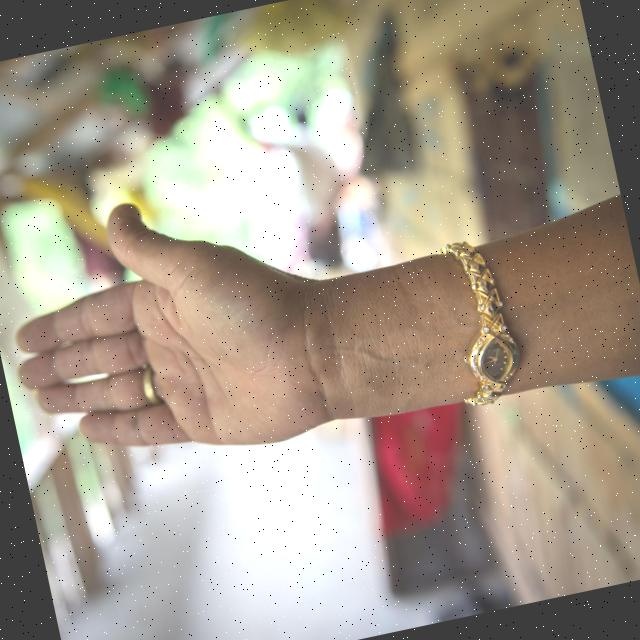Wrist watch: (428, 232, 531, 412)
